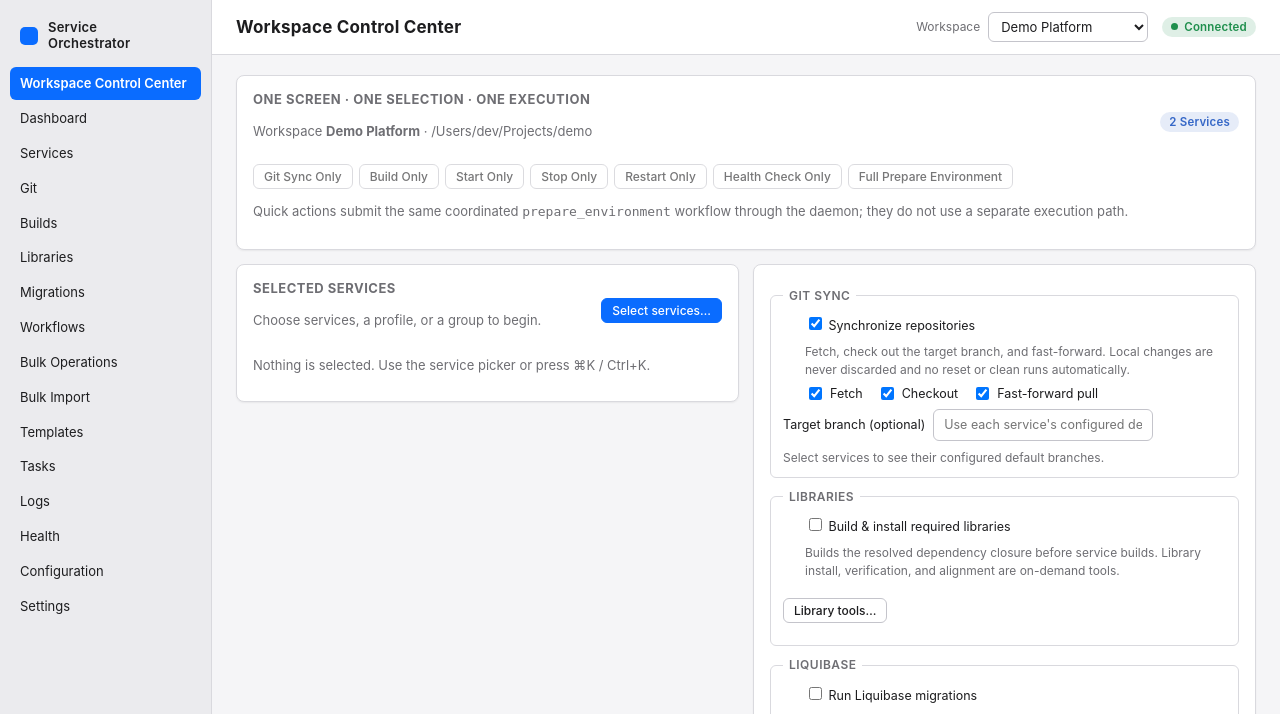
Test case: control center selection › filters by search and kind while preserving checked services
Check: the element named "Service selection" is shown, box [236,264,739,402]
Click the button "Select services…" at (662, 311), box [601,298,722,324]
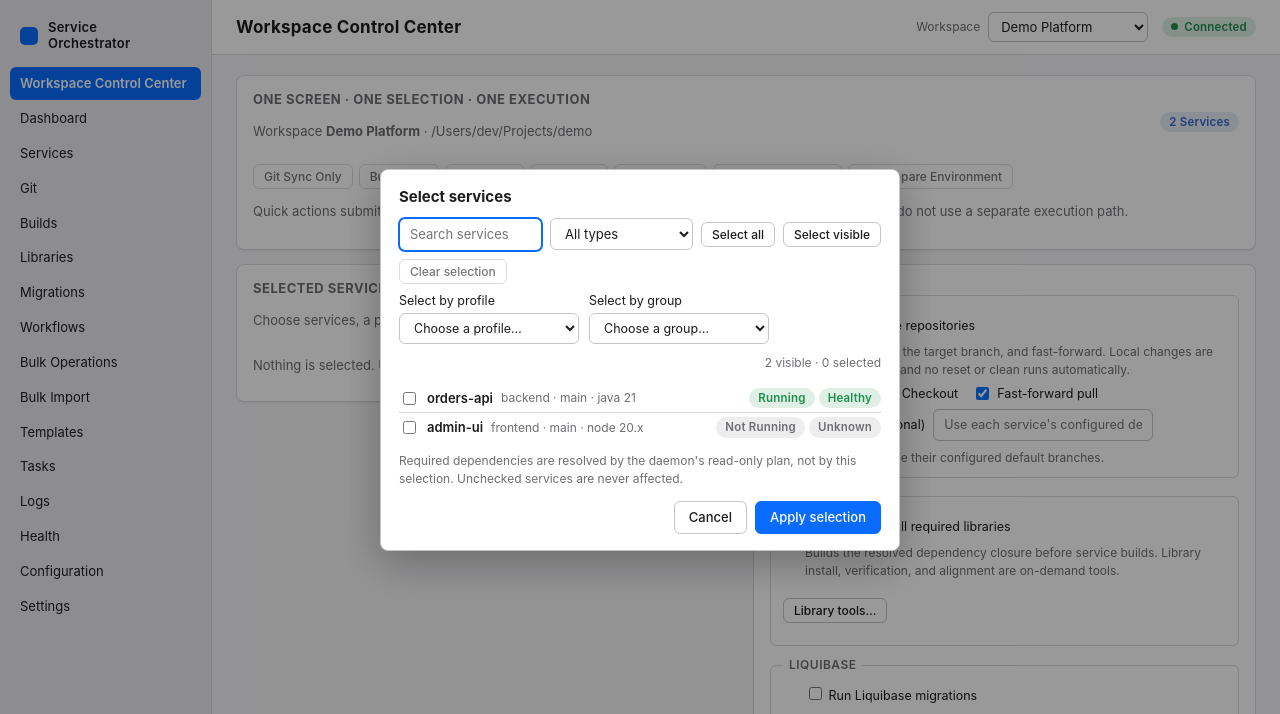
Check: the text "2 visible · 0 selected" is shown, box [765,354,881,372]
Type "admin" into the search field labelled "Search services" at (470, 234), box [399,218,542,251]
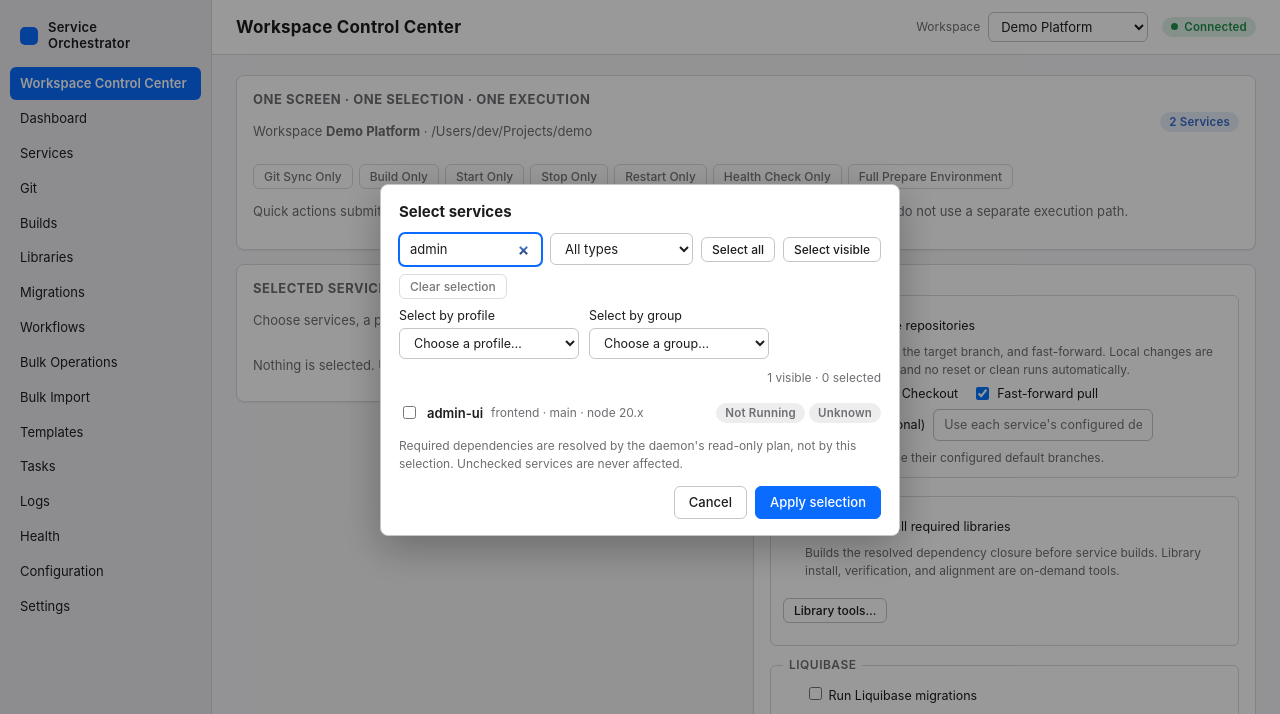
Check: the text "1 visible · 0 selected" is shown, box [767,369,881,387]
Click the checkbox named "Select admin-ui" at (410, 413), box [403,406,416,419]
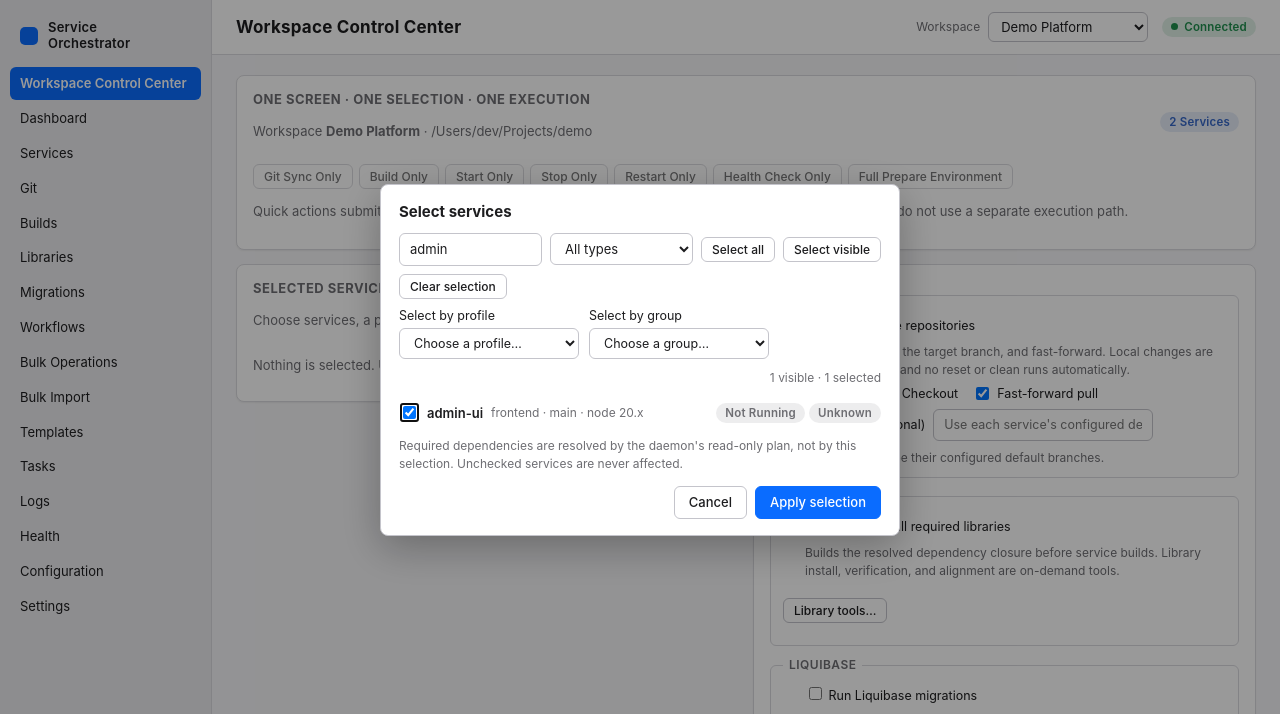
Note: Clearing the filter keeps the checked service checked.
Clear the search field named "Search services" at (470, 249), box [399,233,542,266]
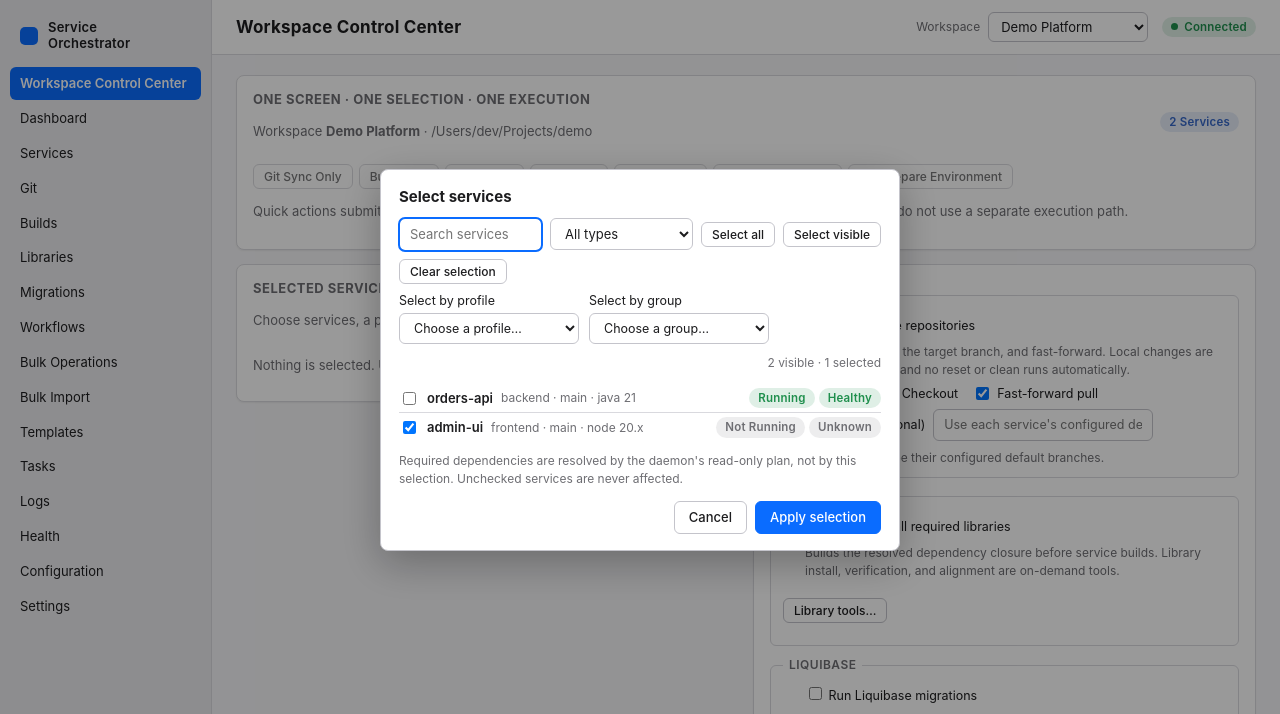
Check: the checkbox named "Select admin-ui" is checked, box [403,421,416,434]
Select "backend" in the dropdown named "Filter services by type" at (622, 234), box [550,218,693,250]
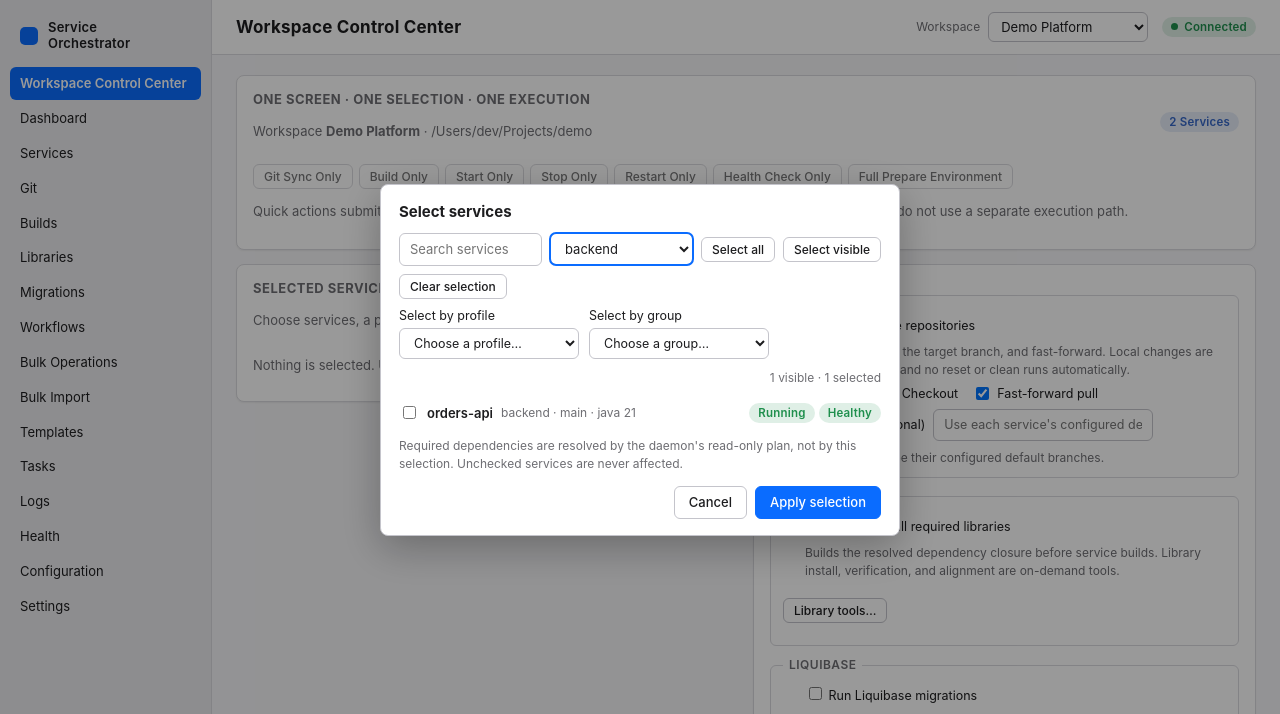
Check: the checkbox named "Select orders-api" is not checked, box [403,406,416,419]
Check: the text "1 visible · 1 selected" is shown, box [770,369,881,387]
